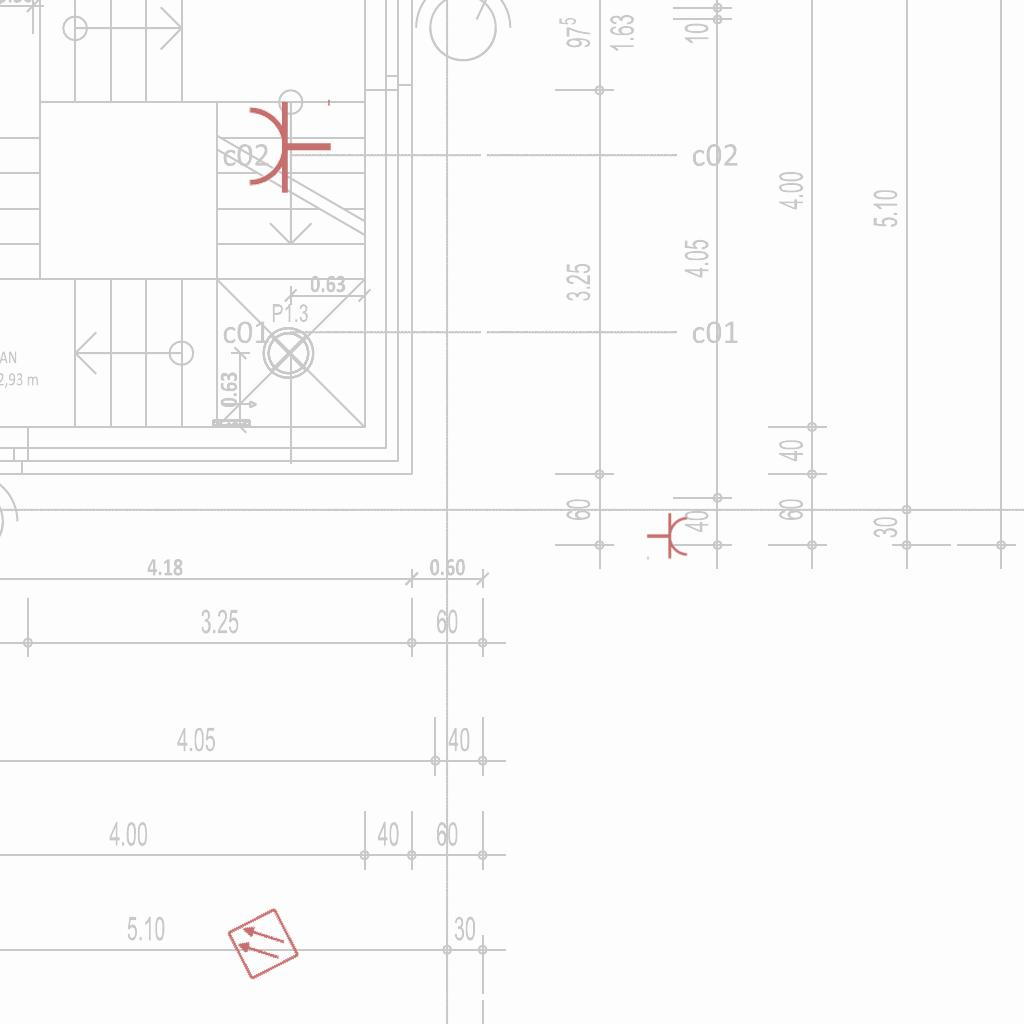RMO_Rauchmelder_optischer: (225, 906, 301, 982)
Schukosteckdose_einfach: (246, 95, 333, 195), (646, 512, 689, 562)
